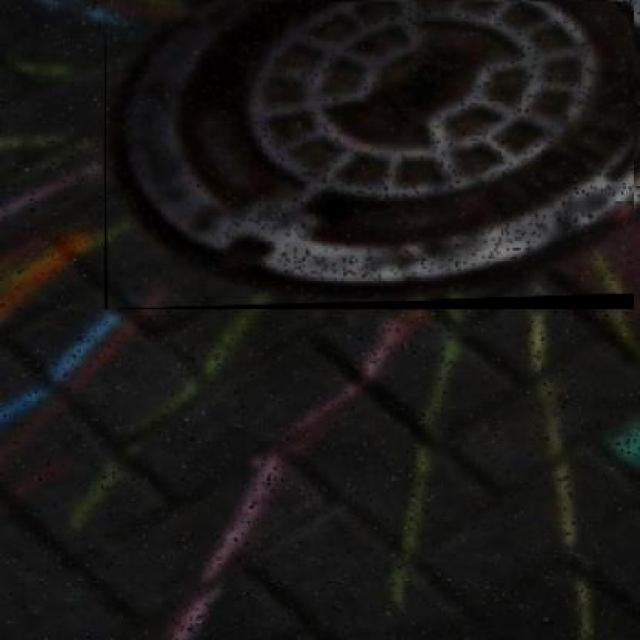Manhole: (104, 2, 634, 310)
